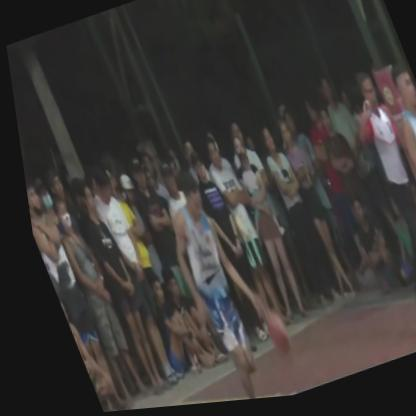basketball: (247, 305, 287, 367)
